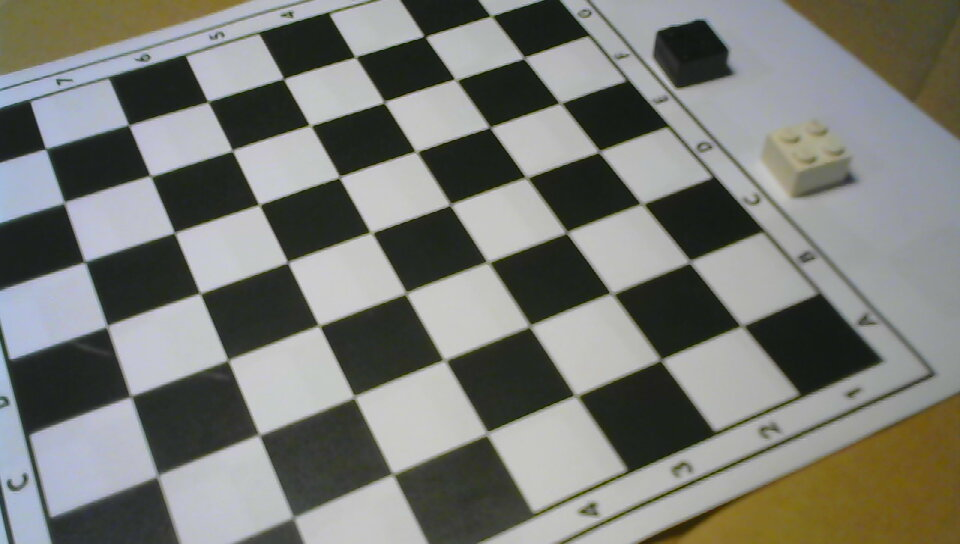bp: (653, 18, 730, 86)
wp: (761, 117, 853, 197)
